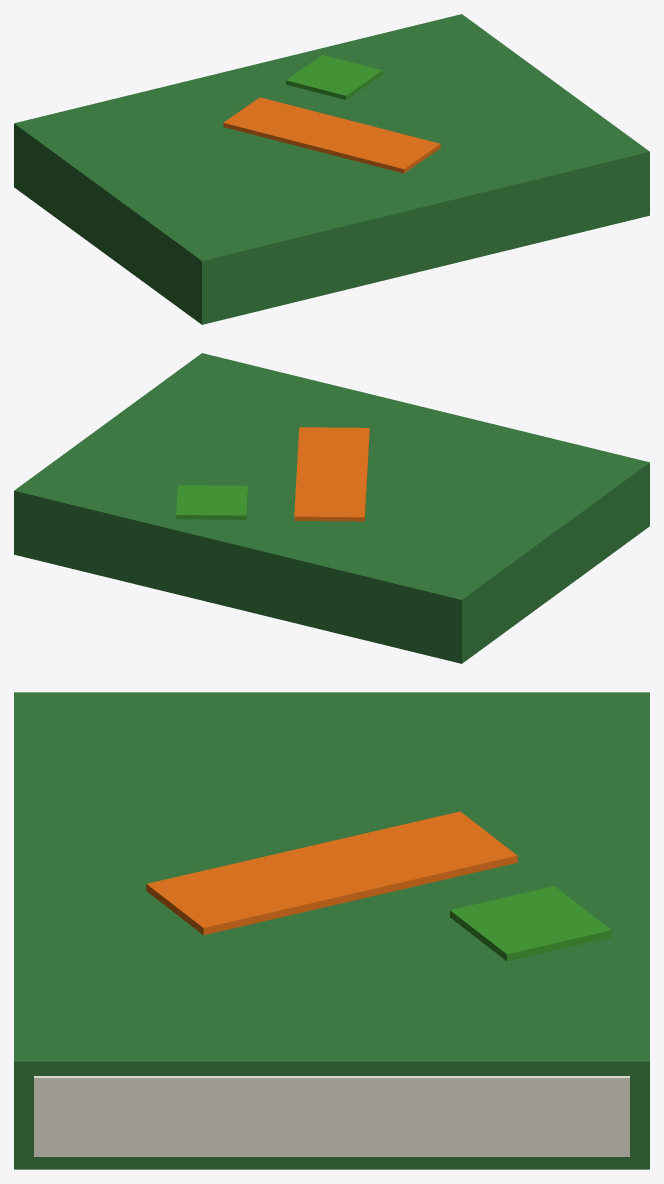
File: growth_diary.glb
The picture shows the model from 3 angles, top to bottom: view 1: azimuth 30°, elevation 25°; view 2: azimuth 150°, elevation 25°; view 3: azimuth 270°, elevation 25°; orthographic projection. The views are drawn at different scales.
Parts seen in each view (by area): view 1: cover_diary_green, carrot_carrot_orange, carrot_carrot_leaf; view 2: cover_diary_green, carrot_carrot_orange, carrot_carrot_leaf; view 3: cover_diary_green, pages_diary_paper, carrot_carrot_orange, carrot_carrot_leaf.
Boxes of the visible parts, x1,y1,x2,y2 form: cover_diary_green: [14, 14, 649, 324]; carrot_carrot_orange: [223, 97, 440, 173]; carrot_carrot_leaf: [286, 55, 382, 99]; cover_diary_green: [14, 353, 649, 663]; carrot_carrot_orange: [294, 427, 369, 521]; carrot_carrot_leaf: [176, 485, 248, 519]; cover_diary_green: [14, 692, 649, 1169]; pages_diary_paper: [34, 1076, 629, 1156]; carrot_carrot_orange: [146, 811, 517, 935]; carrot_carrot_leaf: [450, 886, 611, 961].
Size of the model in its own units: 0.221 by 0.032 by 0.16.
